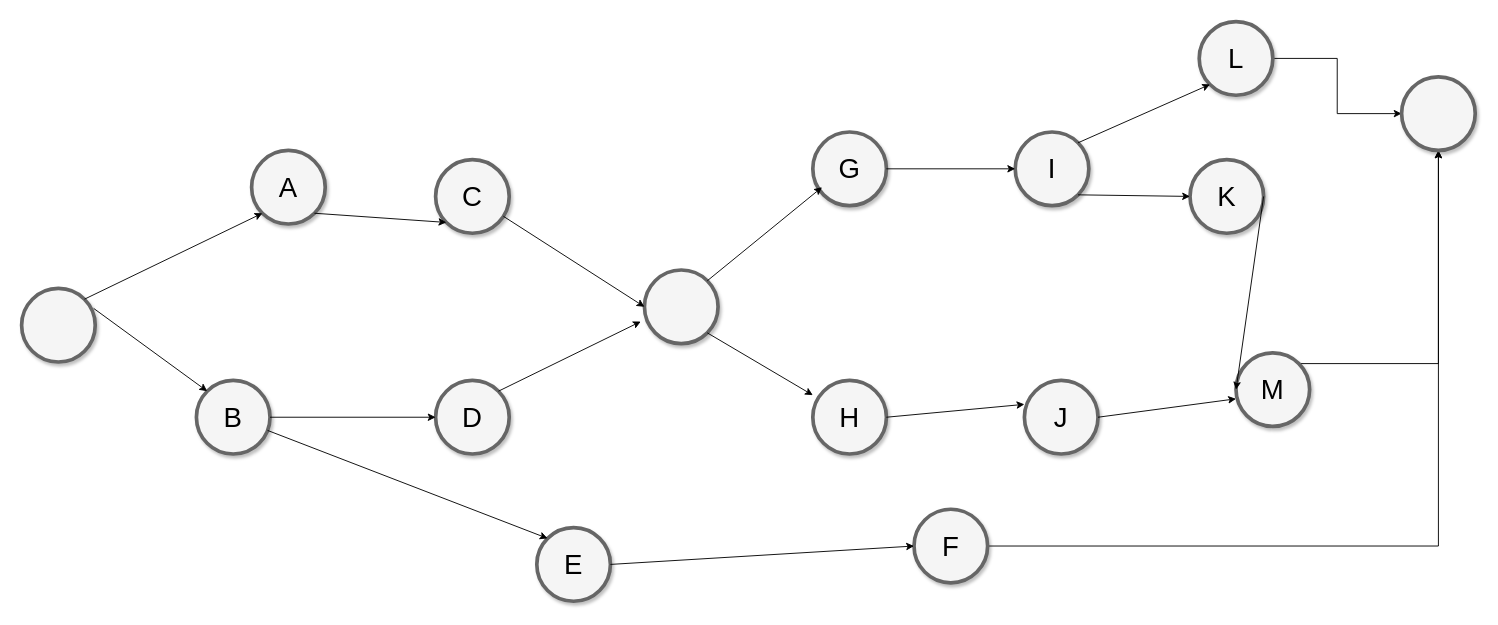
Some shapes in this 1498 by 625 pixel diagram are drawn without their labels. The shapes that lost their labels are listed below. From the top down, each one's centre as x and y in pixels, then its label:
point (1439, 114): FIN
point (59, 326): Inicio
point (681, 307): X1
